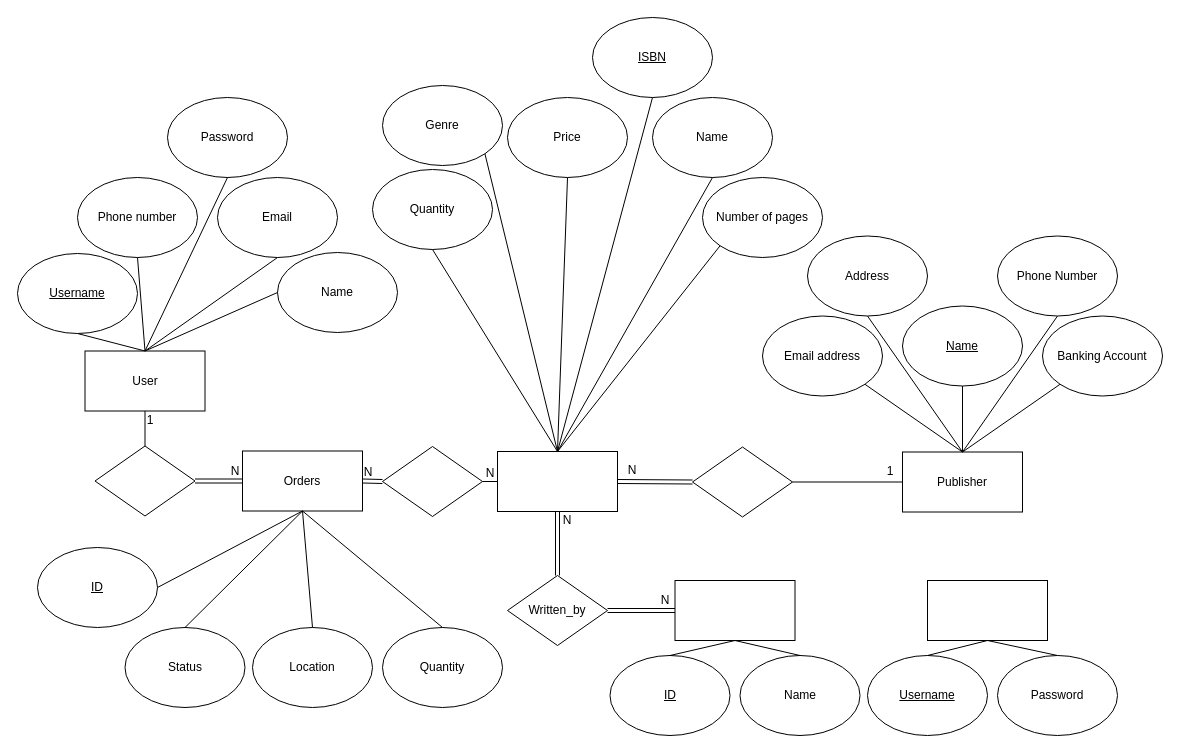
This 1180x753 diagram has some shape labels left out. The centre of each missing label's shape, as x and y in pixels:
Author: the point at 734,610
Book: the point at 557,481
Order_contains: the point at 432,481
Owner: the point at 987,610
Published_by: the point at 742,481
Receives: the point at 144,480
